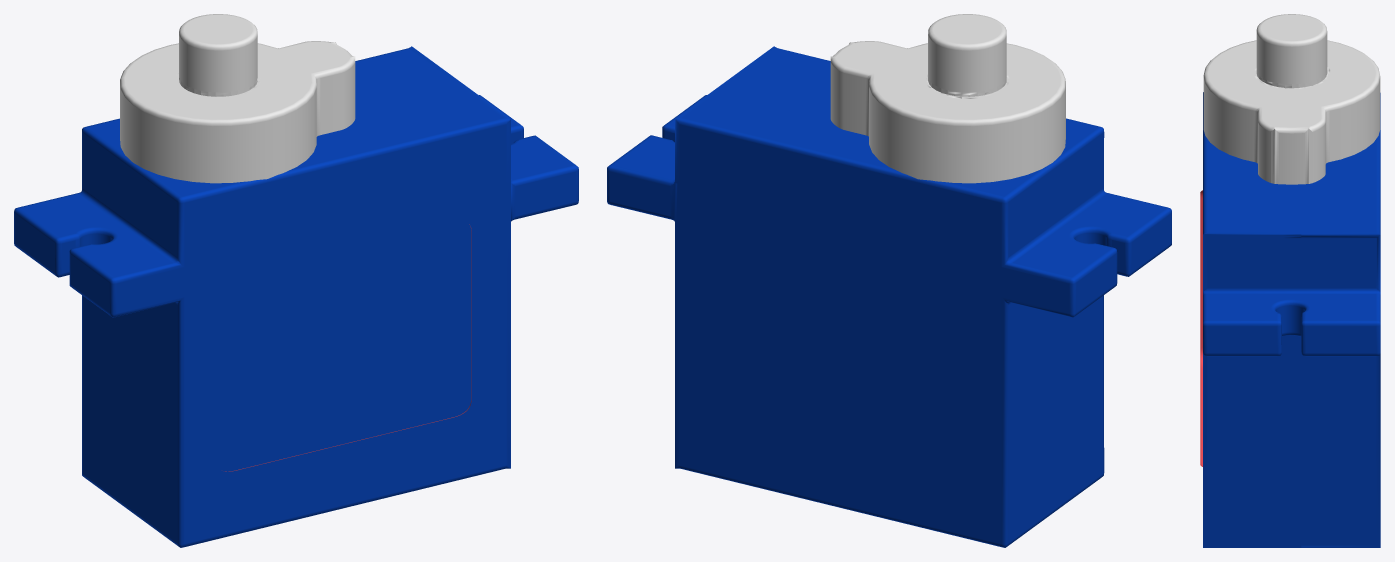
3 renders of one model, left to right at view 1: azimuth 30°, elevation 25°; view 2: azimuth 150°, elevation 25°; view 3: azimuth 270°, elevation 25°, orthographic. The views are drawn at different scales.
Visible parts, largest first — view 1: Cylinder; view 2: Cylinder; view 3: Cylinder.
Boxes of the visible parts, box(x1,y1,x2,y2) form: Cylinder: box(14, 14, 578, 547); Cylinder: box(607, 14, 1171, 547); Cylinder: box(1200, 14, 1380, 547).
Bounding box in the file's own units: 2.23 × 2.1 × 0.8322.
